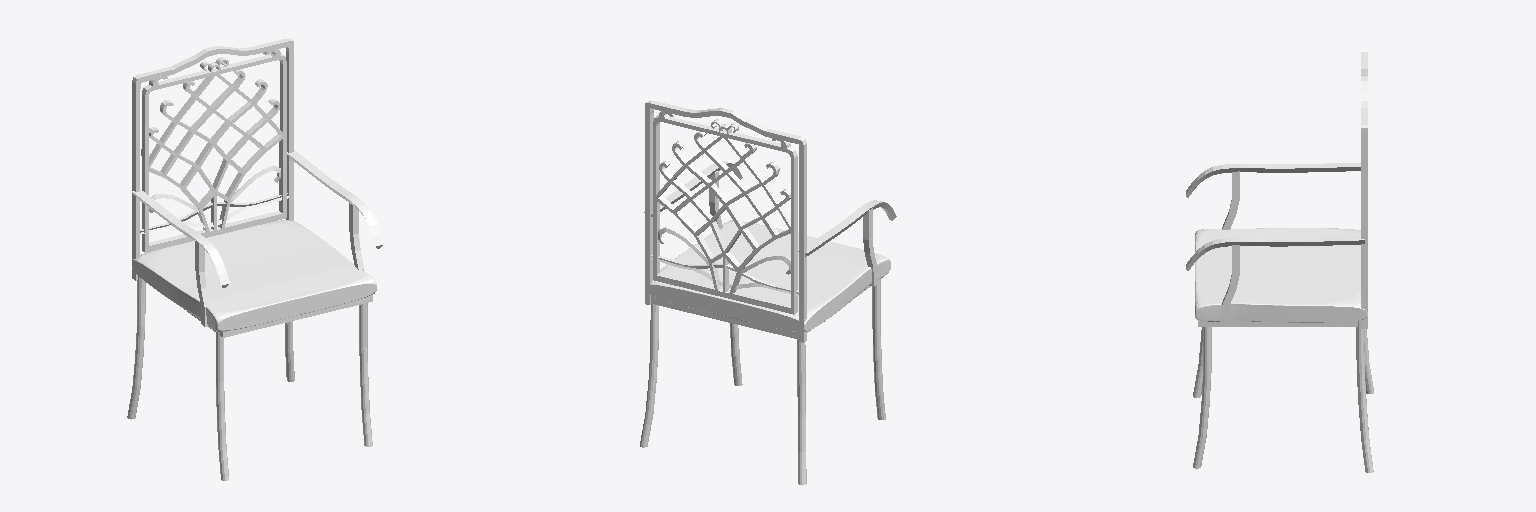
Rendered from latticeChair.obj.
3 renders of one model, left to right at view 1: azimuth 30°, elevation 25°; view 2: azimuth 150°, elevation 25°; view 3: azimuth 270°, elevation 25°, orthographic.
Visible parts, largest first — view 1: PolyMesh_2, PolyMesh_1, outersection, Tube_2_1, Tube_2, PolyMesh_3, PolyMesh_3_1, PolyMesh_3_2, PolyMesh_1_1, PolyMesh_3_4, PolyMesh_3_5; view 2: PolyMesh_2, PolyMesh_1, outersection, PolyMesh_3_2, PolyMesh_3_3, PolyMesh_3_1, Tube_2_1, PolyMesh_1_1, PolyMesh_3_4, Tube_2; view 3: PolyMesh_2, outersection, Tube_2, Tube_2_1, PolyMesh_3_3, PolyMesh_3, PolyMesh_1_1, PolyMesh_3_5.
Part boxes in pixels (x1,y1,x2,y2): PolyMesh_2: (132, 220, 376, 331); PolyMesh_1: (141, 49, 286, 252); outersection: (132, 38, 293, 280); Tube_2_1: (132, 189, 229, 287); Tube_2: (287, 150, 383, 248); PolyMesh_3: (359, 303, 372, 446); PolyMesh_3_1: (216, 332, 228, 480); PolyMesh_3_2: (127, 276, 145, 419); PolyMesh_1_1: (184, 295, 372, 337); PolyMesh_3_4: (195, 240, 209, 326); PolyMesh_3_5: (349, 203, 363, 270); PolyMesh_2: (650, 220, 890, 331); PolyMesh_1: (653, 111, 797, 314); outersection: (645, 101, 806, 342); PolyMesh_3_2: (797, 339, 806, 485); PolyMesh_3_3: (640, 304, 658, 447); PolyMesh_3_1: (872, 279, 885, 419); Tube_2_1: (798, 200, 896, 256); PolyMesh_1_1: (651, 278, 881, 339); PolyMesh_3_4: (863, 208, 877, 286); Tube_2: (644, 161, 742, 216); PolyMesh_2: (1195, 228, 1367, 322); outersection: (1361, 52, 1367, 328); Tube_2: (1186, 236, 1364, 270); Tube_2_1: (1186, 162, 1360, 197); PolyMesh_3_3: (1356, 320, 1373, 472); PolyMesh_3: (1193, 327, 1211, 468); PolyMesh_1_1: (1198, 320, 1357, 326); PolyMesh_3_5: (1221, 245, 1239, 324).
Size of the model in its own units: 2 by 4.05 by 1.96.